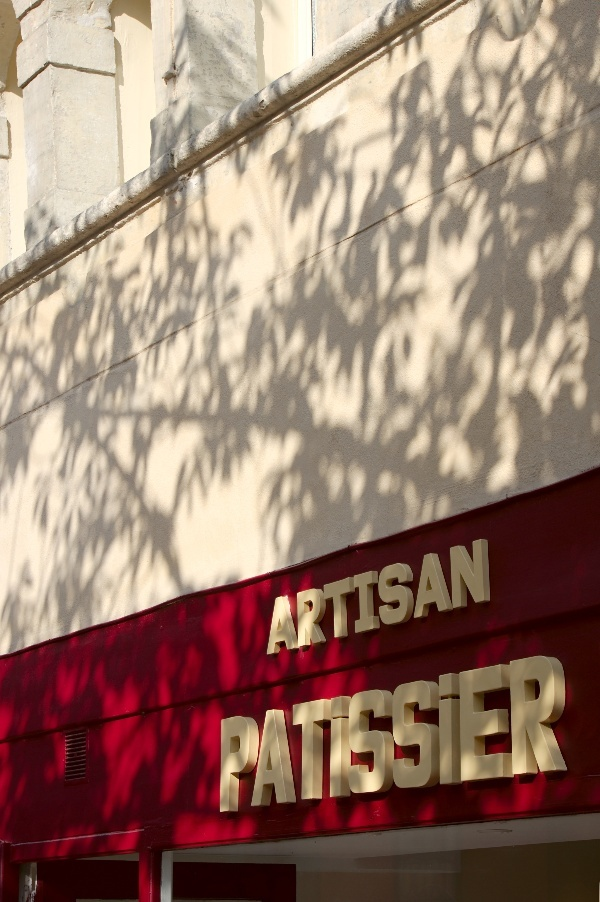text: (225, 650, 240, 815), (241, 650, 256, 815), (257, 650, 272, 815), (273, 650, 288, 815), (289, 650, 304, 815), (305, 650, 320, 815), (321, 650, 336, 815), (337, 650, 352, 815), (353, 650, 368, 815), (369, 650, 384, 815), (385, 650, 400, 815), (401, 650, 416, 815), (417, 650, 432, 815), (433, 650, 448, 815), (449, 650, 464, 815), (465, 650, 480, 815), (481, 650, 496, 815), (497, 650, 512, 815), (513, 650, 528, 815), (529, 650, 544, 815), (545, 650, 560, 815), (289, 536, 304, 657), (305, 536, 320, 657), (321, 536, 336, 657), (337, 536, 352, 657), (353, 536, 368, 657), (369, 536, 384, 657), (385, 536, 400, 657), (401, 536, 416, 657), (417, 536, 432, 657), (433, 536, 448, 657), (449, 536, 464, 657), (465, 536, 480, 657), (274, 536, 288, 657), (481, 536, 492, 657), (561, 650, 569, 815), (220, 650, 224, 815)
